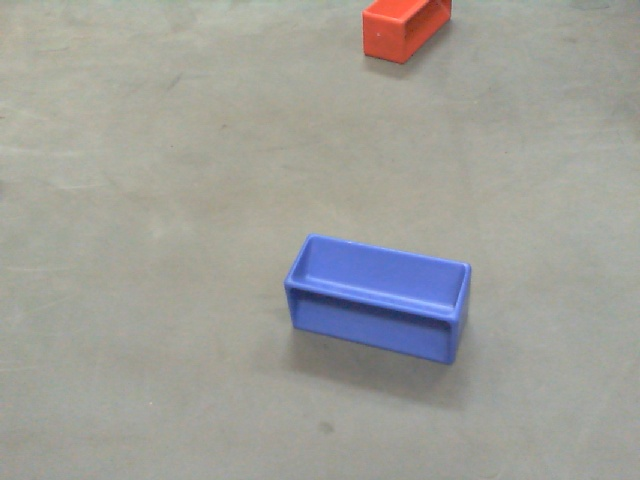BlueSample: (284, 233, 476, 365)
RedSample: (360, 1, 453, 68)
